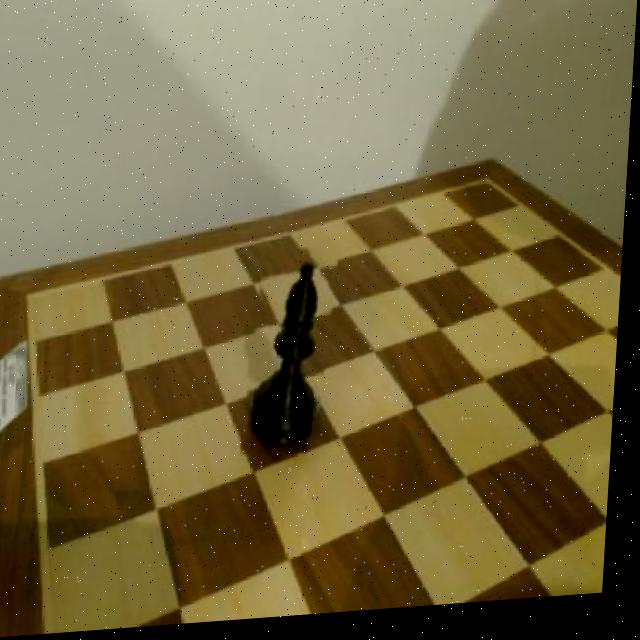bishop: (248, 250, 340, 466)
